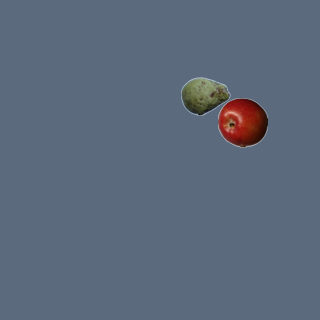Apple Braeburn: (217, 97, 267, 147)
Pear Stone: (180, 71, 230, 121)
